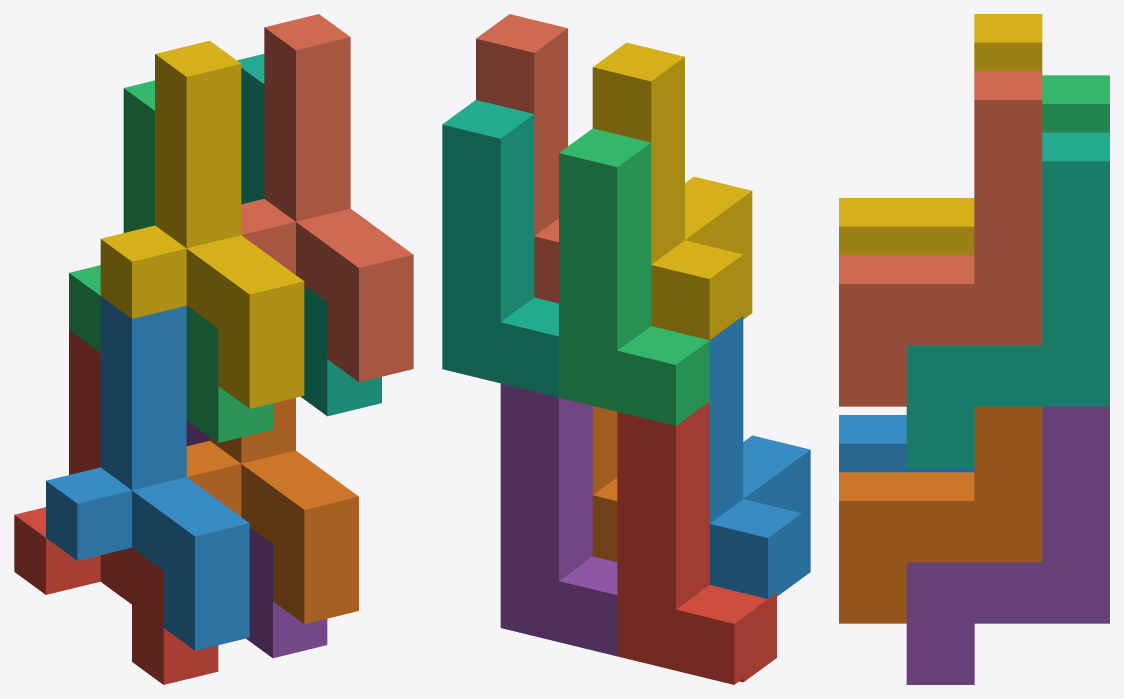
The model's file is tiling.obj.
The picture shows the model from 3 angles, left to right: view 1: azimuth 30°, elevation 25°; view 2: azimuth 150°, elevation 25°; view 3: azimuth 270°, elevation 25°; orthographic projection. The views are drawn at different scales.
Visible parts, largest first — view 1: copy_1_domain_4, copy_1_domain_2, copy_1_domain_8, copy_1_domain_6, copy_1_domain_1, copy_1_domain_3, copy_1_domain_7, copy_1_domain_5; view 2: copy_1_domain_3, copy_1_domain_1, copy_1_domain_7, copy_1_domain_5, copy_1_domain_4, copy_1_domain_2, copy_1_domain_8, copy_1_domain_6; view 3: copy_1_domain_8, copy_1_domain_7, copy_1_domain_5, copy_1_domain_6, copy_1_domain_4, copy_1_domain_2, copy_1_domain_3.
Boxes of the visible parts, left/top/right/bottom form: copy_1_domain_4: left=100, top=40, right=304, bottom=408; copy_1_domain_2: left=46, top=296, right=249, bottom=650; copy_1_domain_8: left=241, top=14, right=413, bottom=382; copy_1_domain_6: left=186, top=397, right=358, bottom=623; copy_1_domain_1: left=14, top=330, right=218, bottom=684; copy_1_domain_3: left=69, top=80, right=272, bottom=442; copy_1_domain_7: left=237, top=54, right=381, bottom=416; copy_1_domain_5: left=186, top=420, right=327, bottom=658; copy_1_domain_3: left=559, top=128, right=709, bottom=425; copy_1_domain_1: left=617, top=401, right=776, bottom=684; copy_1_domain_7: left=442, top=100, right=558, bottom=397; copy_1_domain_5: left=500, top=383, right=617, bottom=656; copy_1_domain_4: left=592, top=42, right=752, bottom=340; copy_1_domain_2: left=709, top=316, right=810, bottom=598; copy_1_domain_8: left=476, top=14, right=567, bottom=303; copy_1_domain_6: left=592, top=406, right=617, bottom=562; copy_1_domain_8: left=839, top=71, right=1042, bottom=406; copy_1_domain_7: left=906, top=132, right=1109, bottom=467; copy_1_domain_5: left=906, top=406, right=1109, bottom=684; copy_1_domain_6: left=839, top=406, right=1042, bottom=623; copy_1_domain_4: left=839, top=14, right=1042, bottom=255; copy_1_domain_2: left=839, top=415, right=974, bottom=472; copy_1_domain_3: left=1042, top=75, right=1109, bottom=132.
Bounding box in the file's own units: 5 × 10 × 4.
